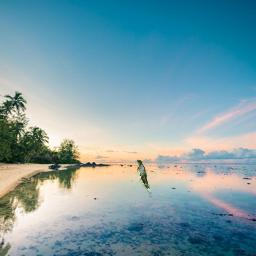Cuckoo: (137, 160, 152, 200)
